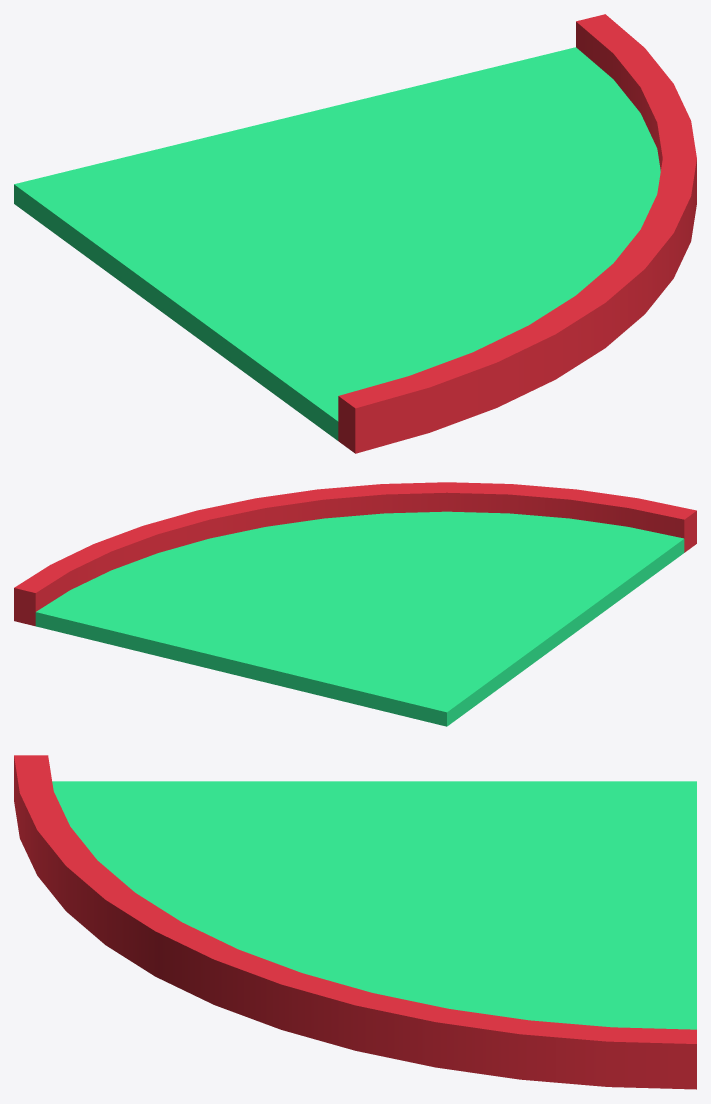
The model's file is roundLargeCornerOpen.fbx.
3 renders of one model, top to bottom at view 1: azimuth 30°, elevation 25°; view 2: azimuth 150°, elevation 25°; view 3: azimuth 270°, elevation 25°, orthographic. The views are drawn at different scales.
Parts seen in each view (by area): view 1: roundLargeCornerOpen; view 2: roundLargeCornerOpen; view 3: roundLargeCornerOpen.
Boxes of the visible parts, x1,y1,x2,y2 form: roundLargeCornerOpen: (14,14,696,453); roundLargeCornerOpen: (14,482,696,726); roundLargeCornerOpen: (14,755,696,1089).
Size of the model in its own units: 20 by 1.47 by 20.
